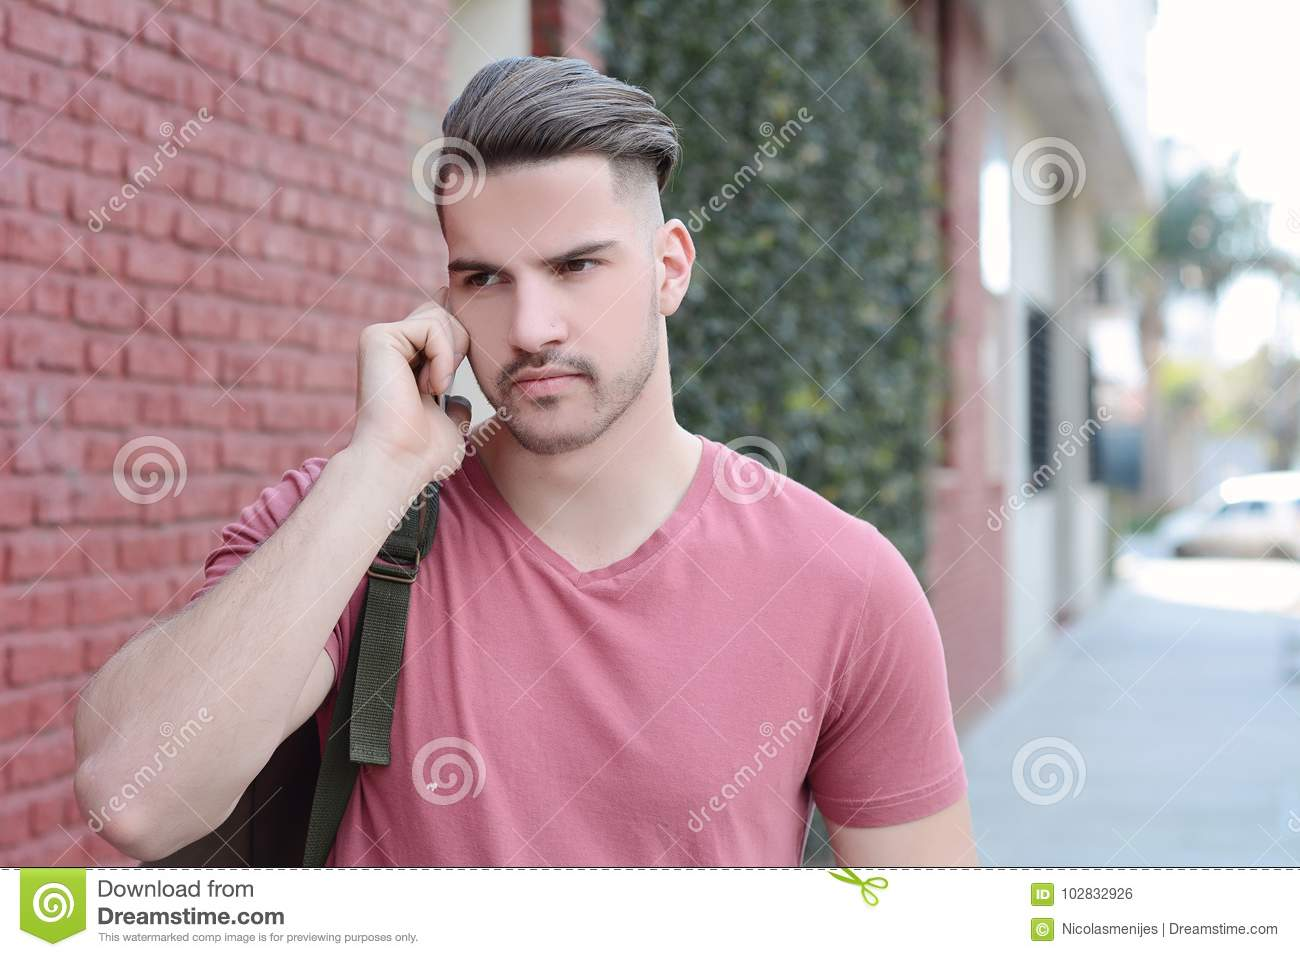phone: (429, 290, 461, 440)
talk: (359, 238, 630, 501)
